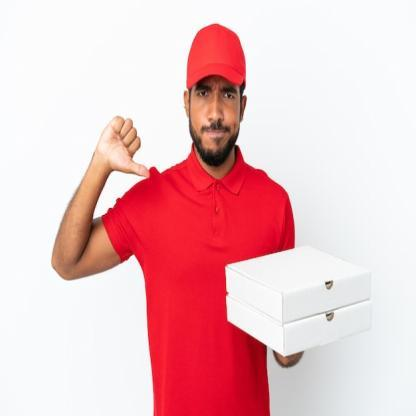thumb_down: (96, 110, 152, 184)
